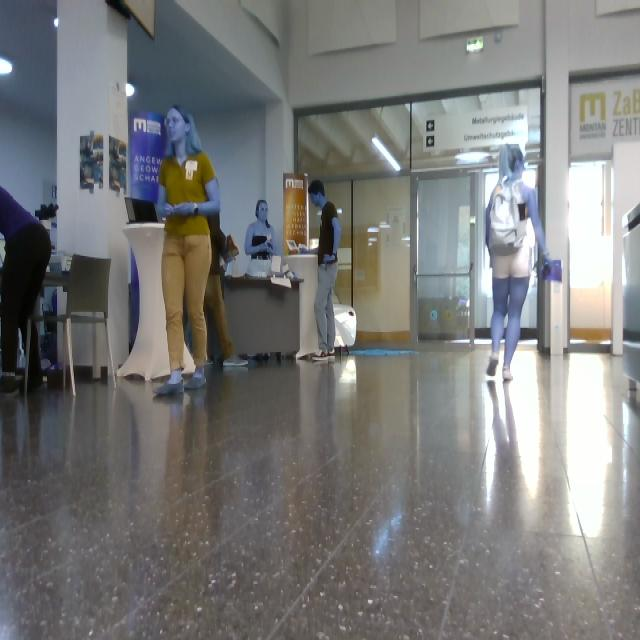desk: (224, 278, 299, 356)
door: (295, 80, 543, 353), (520, 236, 537, 348), (310, 208, 320, 241)
light bulb: (372, 137, 401, 172), (1, 57, 12, 76), (127, 84, 136, 98), (55, 17, 59, 28)
person: (155, 108, 220, 396), (486, 146, 553, 381), (1, 188, 51, 375), (310, 180, 341, 360), (204, 216, 239, 365), (245, 201, 279, 277), (26, 322, 43, 390)
pillar: (58, 1, 128, 368), (544, 1, 576, 356), (73, 325, 89, 366), (59, 324, 69, 364), (59, 290, 66, 313)
staircase: (623, 205, 640, 410)
table: (118, 224, 171, 381), (286, 254, 319, 358), (184, 348, 195, 373)
tiled floor: (1, 346, 640, 640)
